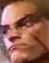kevin: (0, 1, 47, 59)
